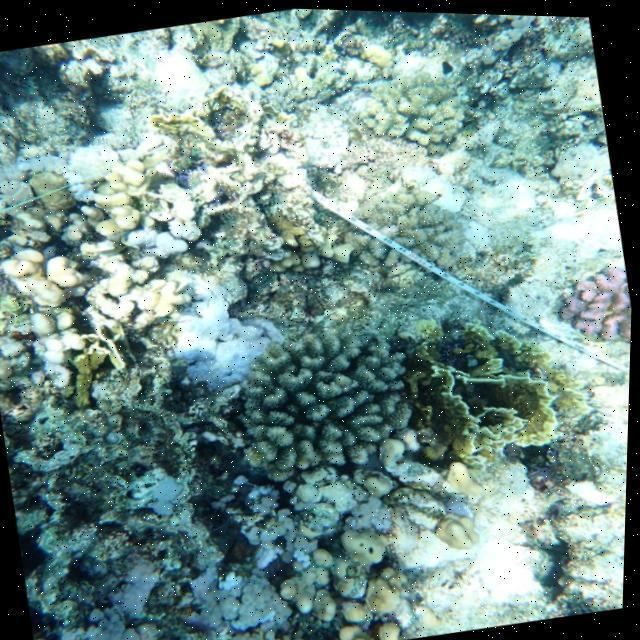Bleached Coral: (142, 267, 298, 412), (165, 545, 298, 640)
Healthy Coral: (245, 348, 420, 482), (553, 258, 640, 348)
